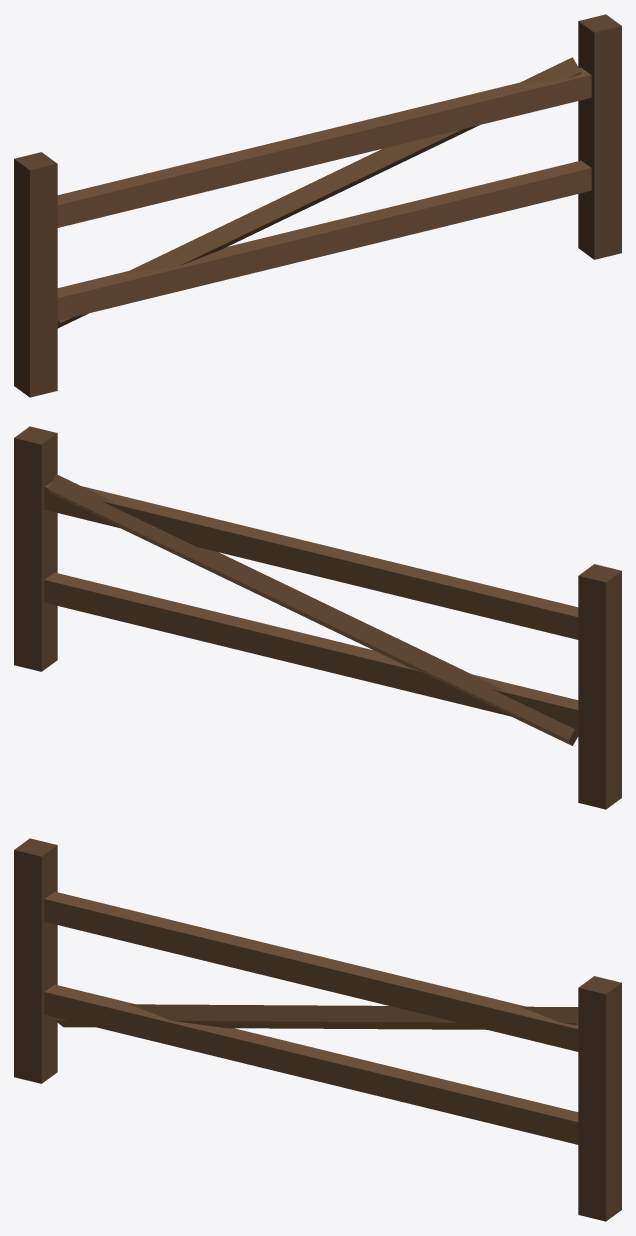
The model's file is fence.glb.
The picture shows the model from 3 angles, top to bottom: view 1: azimuth 30°, elevation 25°; view 2: azimuth 150°, elevation 25°; view 3: azimuth 330°, elevation 25°; orthographic projection.
Parts seen in each view (by area): view 1: fence; view 2: fence; view 3: fence.
Part boxes in pixels (bbox=[...]): fence: bbox=[14, 14, 621, 397]; fence: bbox=[14, 426, 621, 809]; fence: bbox=[14, 838, 621, 1221].
Bounding box in the file's own units: 1 × 0.3667 × 0.0517.
